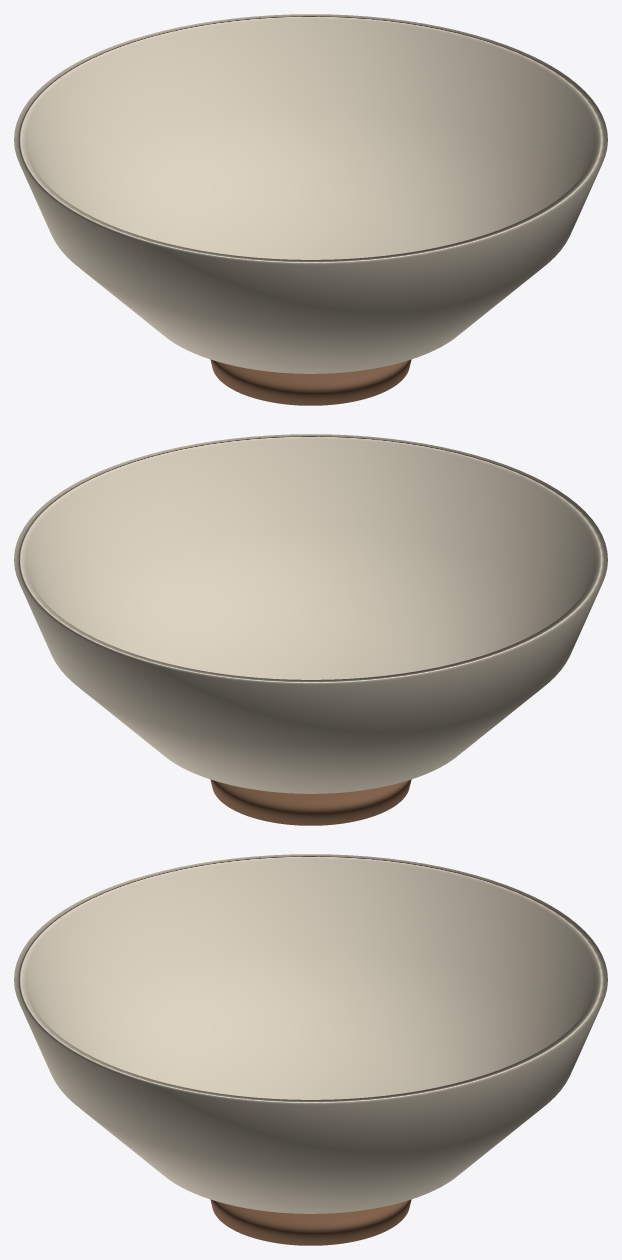
Rendered from cr-buncheong-bowl.glb.
The picture shows the model from 3 angles, top to bottom: view 1: azimuth 30°, elevation 25°; view 2: azimuth 150°, elevation 25°; view 3: azimuth 270°, elevation 25°; orthographic projection.
Parts seen in each view (by area): view 1: cr_buncheong_bowl; view 2: cr_buncheong_bowl; view 3: cr_buncheong_bowl.
Boxes of the visible parts, box(x1,y1,x2,y2) form: cr_buncheong_bowl: box(14, 14, 607, 405); cr_buncheong_bowl: box(14, 434, 607, 825); cr_buncheong_bowl: box(14, 854, 607, 1245).
Size of the model in its own units: 0.192 by 0.08 by 0.192.
